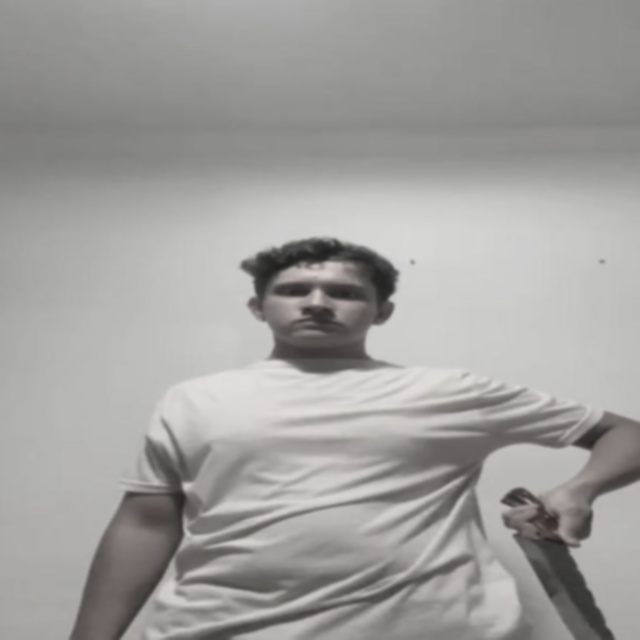Sharp-Object: (516, 536, 630, 640)
